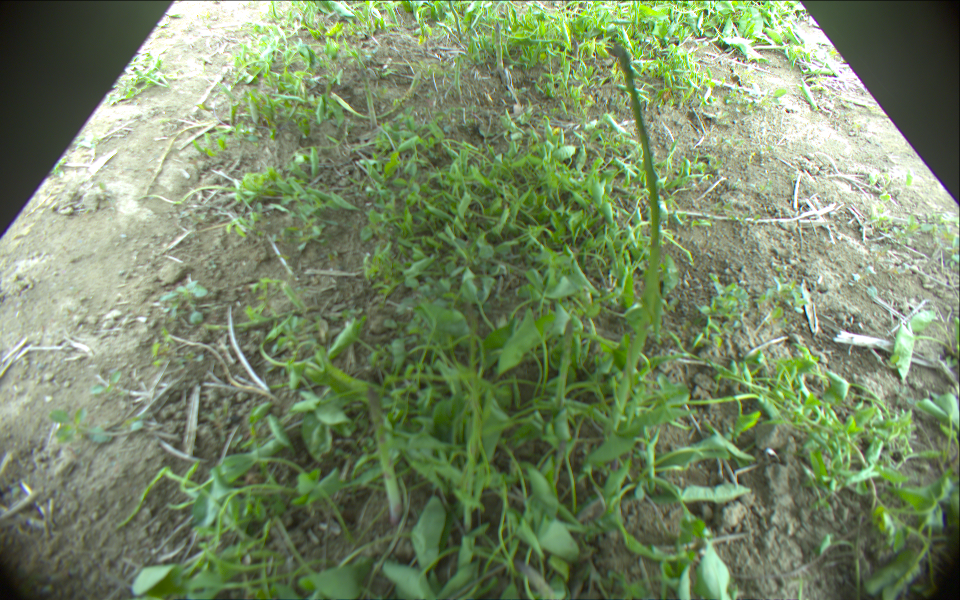aspa: (609, 43, 661, 434), (365, 387, 405, 529), (329, 68, 423, 119), (556, 316, 575, 416), (358, 67, 378, 130), (492, 21, 508, 76), (445, 1, 462, 38), (452, 54, 464, 98)
